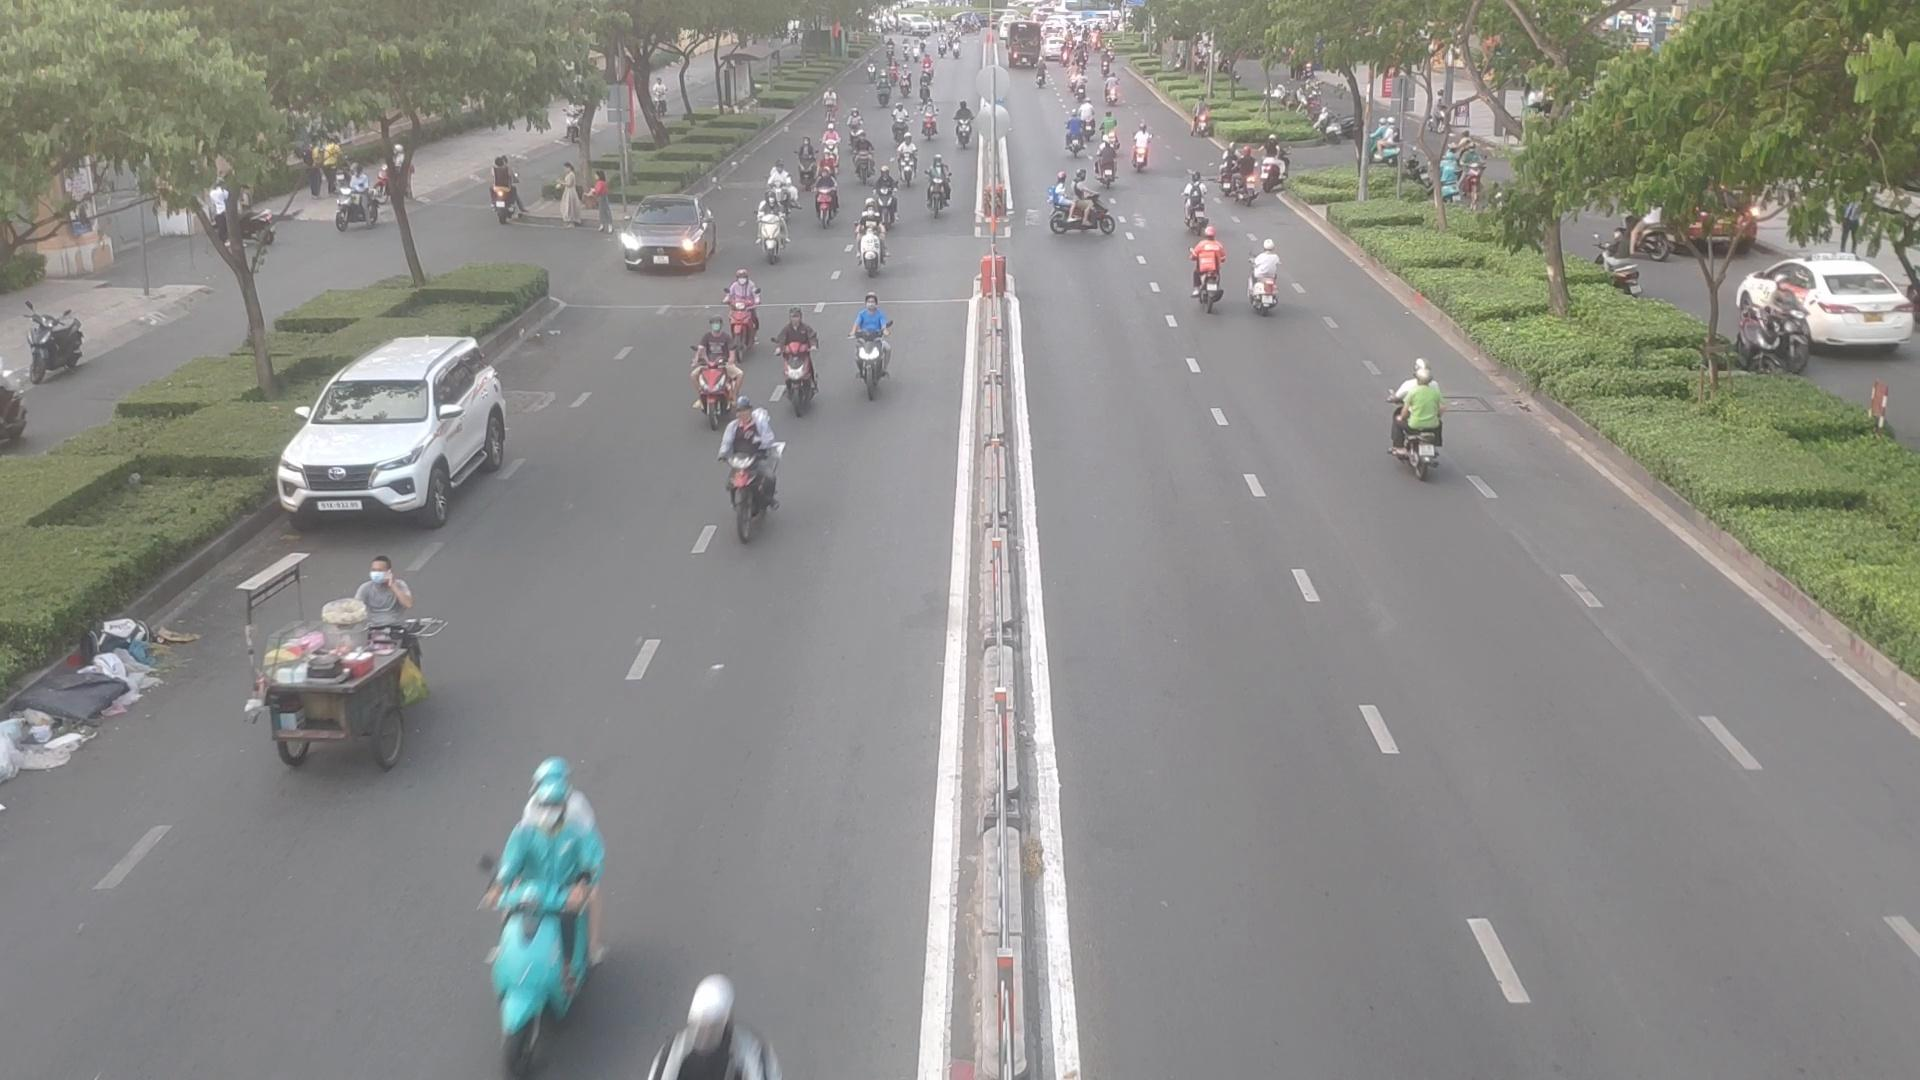car: (282, 331, 524, 524), (612, 196, 723, 276)
motorbike: (455, 783, 611, 1075), (715, 404, 787, 535), (1379, 371, 1452, 473), (686, 320, 748, 415), (845, 294, 898, 396), (778, 309, 831, 410), (709, 272, 766, 349), (1048, 193, 1121, 241), (1184, 233, 1228, 313), (1245, 237, 1288, 313), (851, 214, 890, 276), (754, 207, 789, 264), (1183, 169, 1209, 233), (924, 162, 953, 218), (762, 165, 796, 210), (815, 175, 844, 225), (1131, 127, 1160, 171), (1091, 148, 1120, 189)
